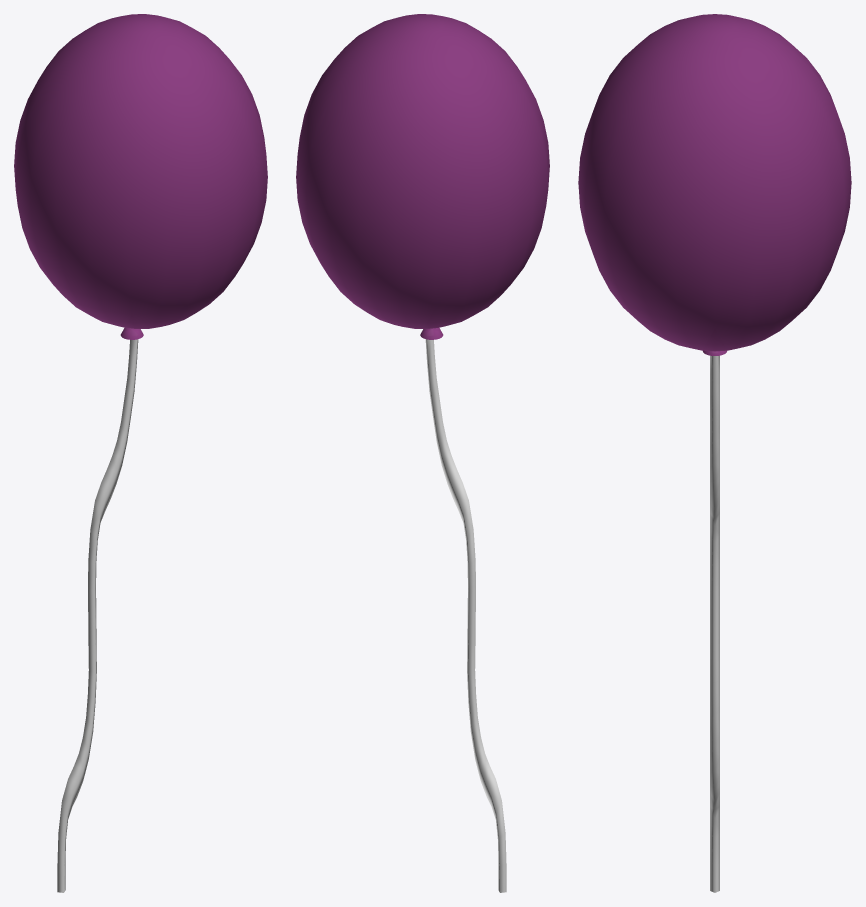
The model's file is BalloonForSubstance.fbx.
3 views of the same model, side by side, from view 1: azimuth 30°, elevation 25°; view 2: azimuth 150°, elevation 25°; view 3: azimuth 270°, elevation 25° (orthographic). The views are drawn at different scales.
Visible parts, largest first — view 1: pSphere1, extrudedSurface1; view 2: pSphere1, extrudedSurface1; view 3: pSphere1, extrudedSurface1.
Part boxes in pixels (x1,y1,x2,y2): pSphere1: (14, 14, 267, 328); extrudedSurface1: (57, 339, 138, 892); pSphere1: (296, 14, 549, 328); extrudedSurface1: (425, 339, 506, 892); pSphere1: (578, 14, 851, 351); extrudedSurface1: (710, 355, 719, 892).
Bounding box in the file's own units: 2 × 7.34 × 2.
